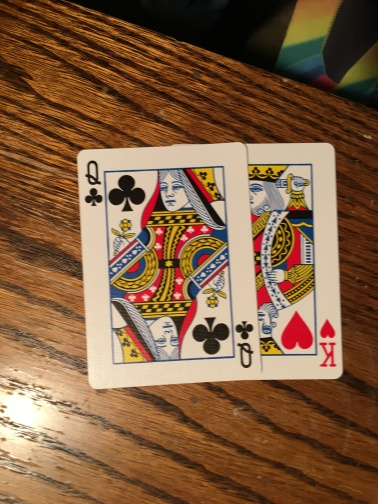king: (247, 141, 344, 381)
queen: (79, 143, 263, 387)
